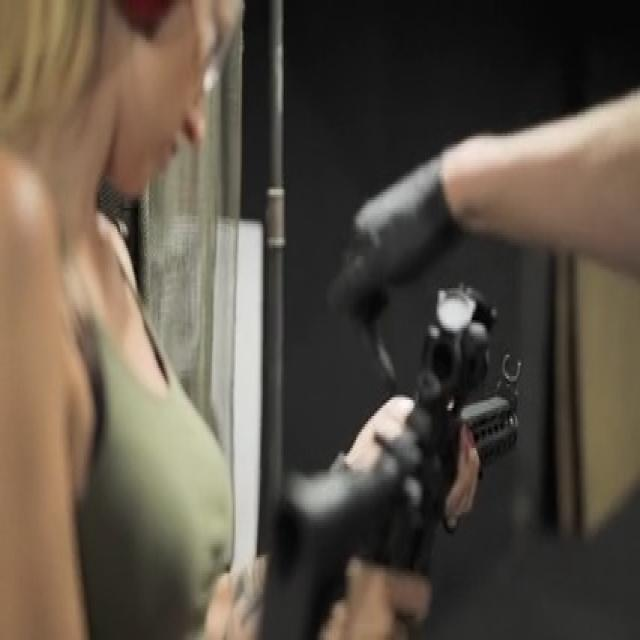Gun_Holder: (241, 288, 640, 640)
Person: (2, 0, 429, 640)
